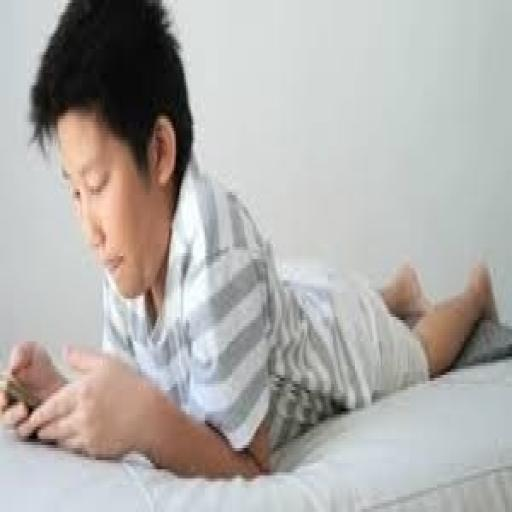texting: (2, 0, 500, 485)
